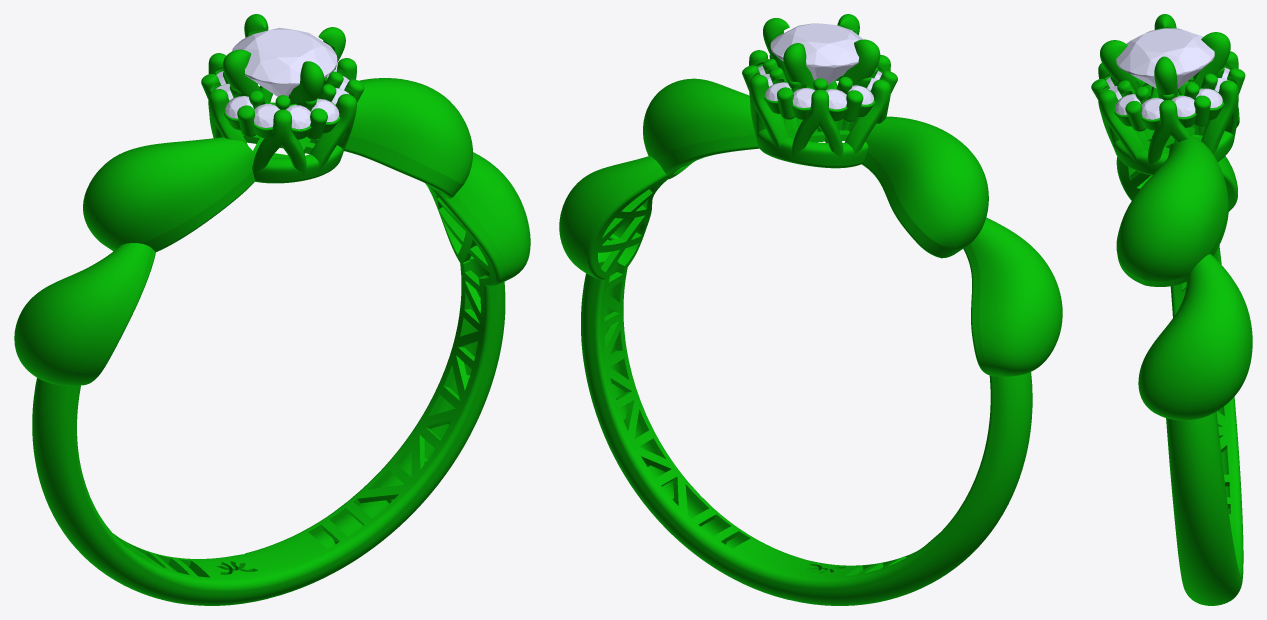
The picture shows the model from 3 angles, left to right: view 1: azimuth 30°, elevation 25°; view 2: azimuth 150°, elevation 25°; view 3: azimuth 270°, elevation 25°; orthographic projection. The views are drawn at different scales.
Visible parts, largest first — view 1: RNG-2510238.3dm; view 2: RNG-2510238.3dm; view 3: RNG-2510238.3dm.
Boxes of the visible parts, x1,y1,x2,y2 form: RNG-2510238.3dm: (14, 14, 530, 605); RNG-2510238.3dm: (559, 14, 1062, 605); RNG-2510238.3dm: (1091, 14, 1252, 605).
Size of the model in its own units: 2.63 by 2.91 by 0.7748.
